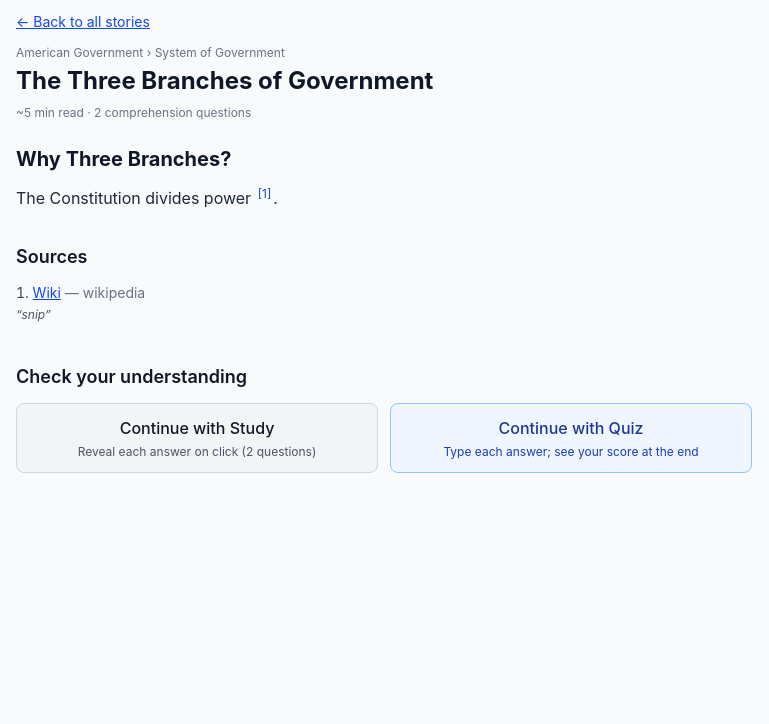
Test: StoryPage › Continue with Study runs the existing reveal-on-click flow and marks the story read on completion
This screenshot has width=769, height=724.
What coordinates should you click on to do the following:
click the button with test id "continue-with-study"
I would click on:
 (197, 438)
Its box is [16,403,378,473].
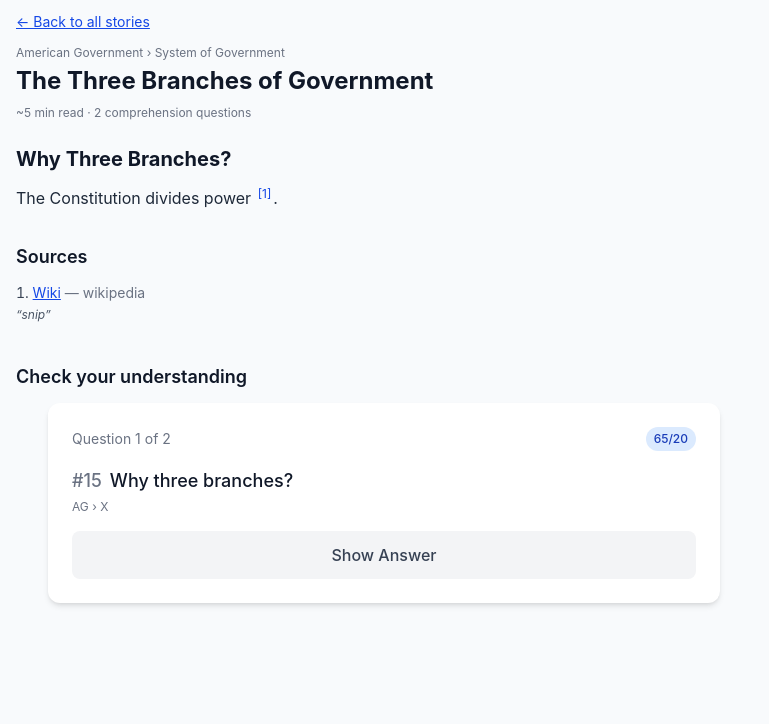
Expected: the text "Question 1 of 2" is shown, [72,429,171,449]
What coordinates should you click on to do the following:
click the button "Show Answer"
I would click on:
 (384, 555)
Its box is [72,531,696,579].
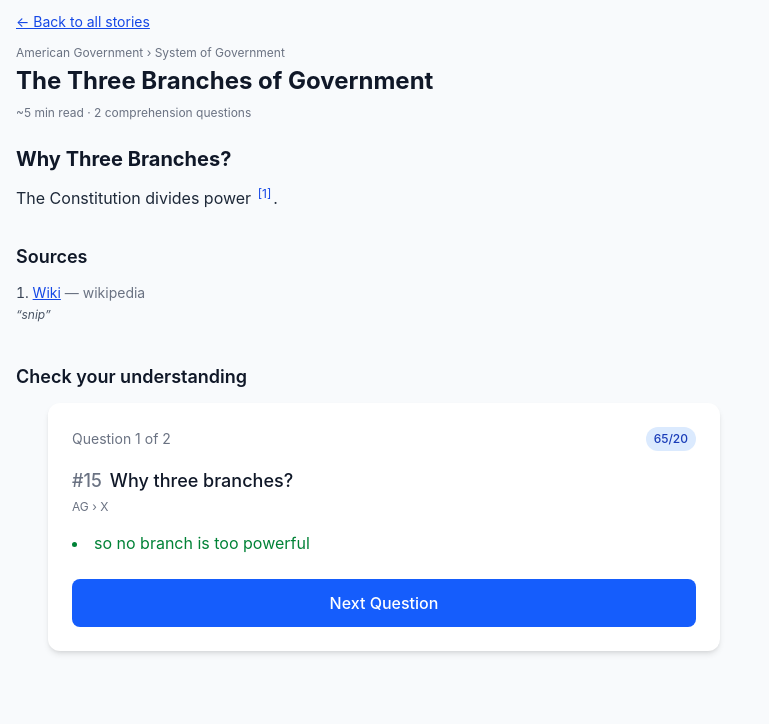
What coordinates should you click on to do the following:
click the button "Next Question"
I would click on:
 (384, 603)
Its box is [72,579,696,627].
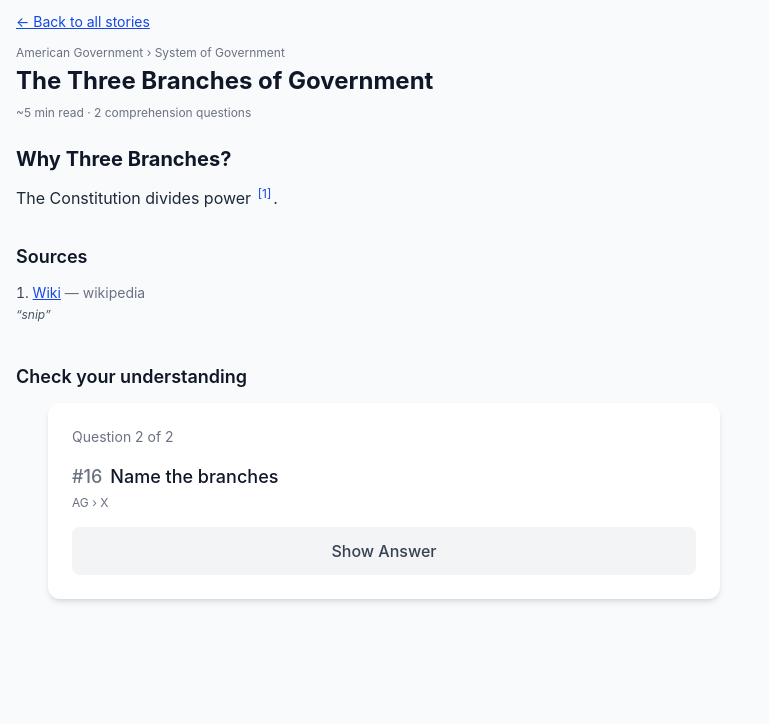
Expected: the text "Question 2 of 2" is shown, [72,427,174,447]
What coordinates should you click on to do the following:
click the button "Show Answer"
I would click on:
 (384, 551)
Its box is [72,527,696,575].
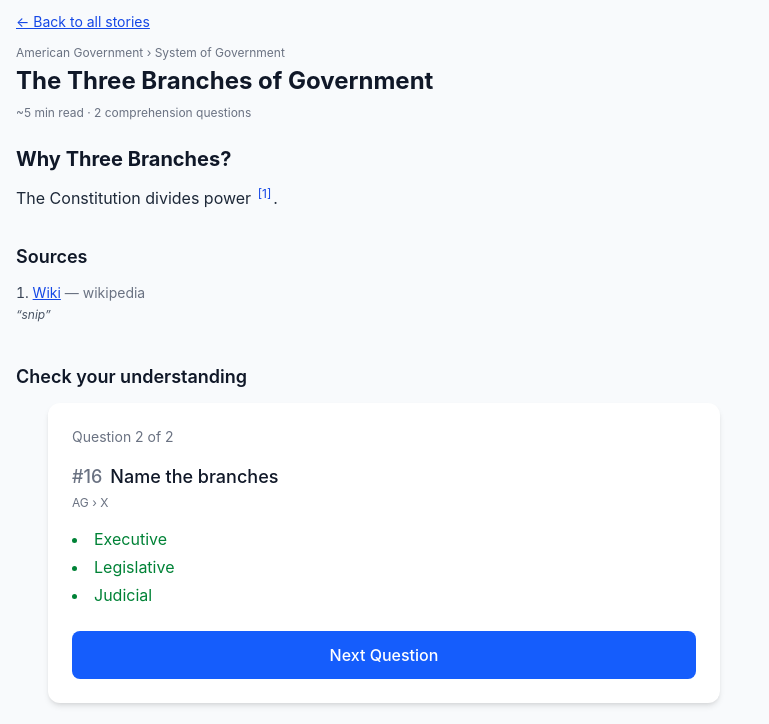
What coordinates should you click on to do the following:
click the button "Next Question"
I would click on:
 (384, 655)
Its box is [72,631,696,679].
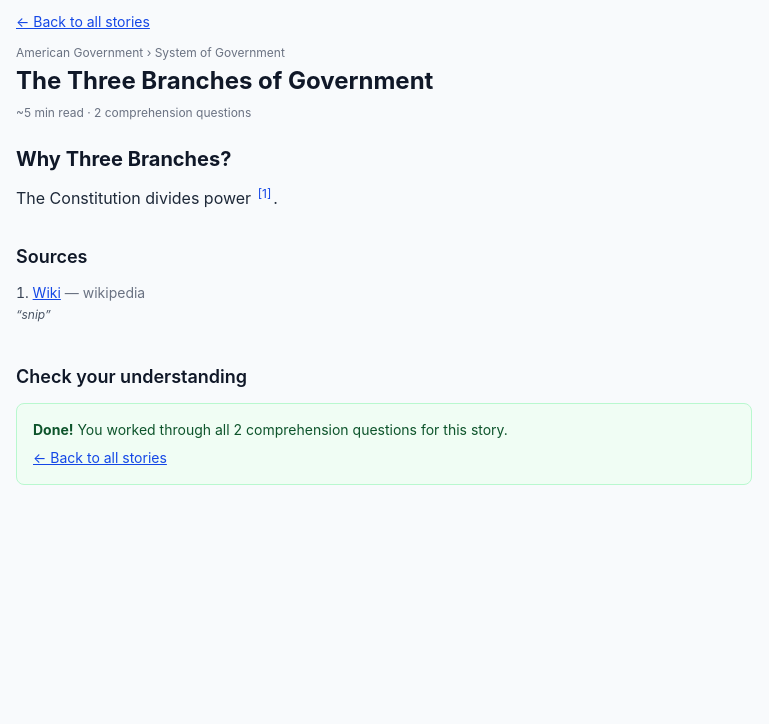
Expected: the message with test id "story-quiz-done" is shown, [16,403,752,485]
